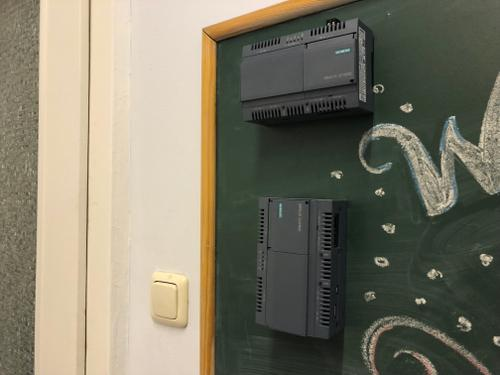device: (239, 17, 373, 125), (255, 197, 347, 339)
